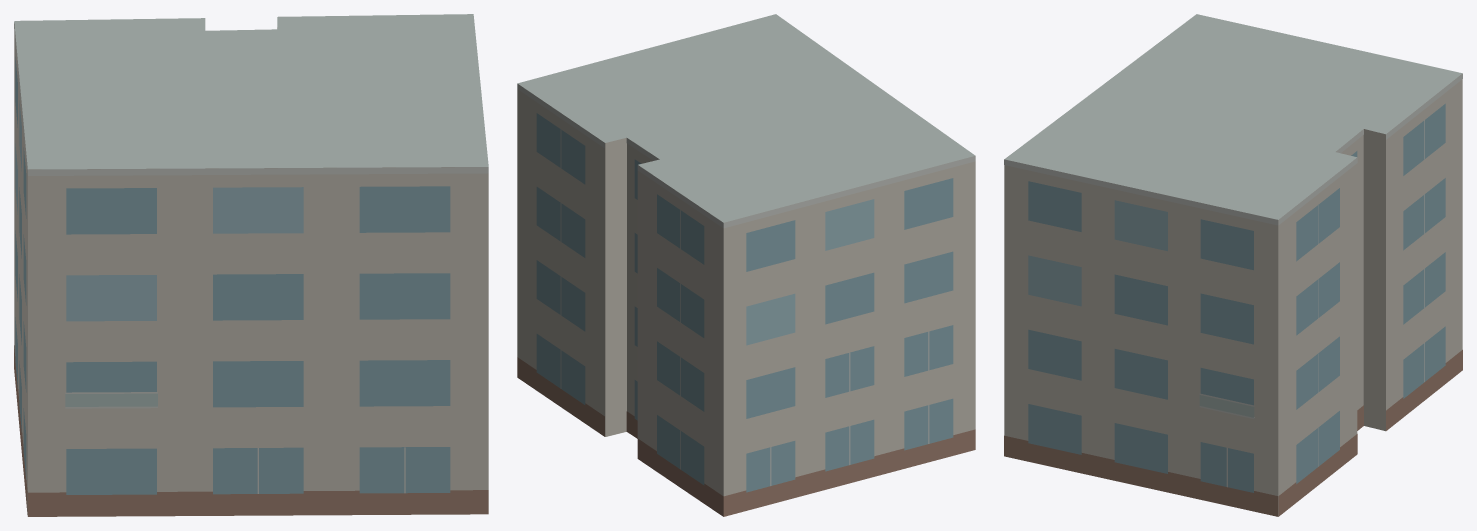
The model's file is survey-upis-32657755.glb.
The picture shows the model from 3 angles, left to right: view 1: azimuth 30°, elevation 25°; view 2: azimuth 150°, elevation 25°; view 3: azimuth 270°, elevation 25°; orthographic projection. The views are drawn at different scales.
Parts seen in each view (by area): view 1: survey-upis-32657755.tmp; view 2: survey-upis-32657755.tmp; view 3: survey-upis-32657755.tmp.
Boxes of the visible parts, left/top/right/bottom form: survey-upis-32657755.tmp: left=14, top=14, right=488, bottom=516; survey-upis-32657755.tmp: left=517, top=14, right=975, bottom=516; survey-upis-32657755.tmp: left=1004, top=14, right=1462, bottom=516.
Bounding box in the file's own units: 19.04 × 12.8 × 17.92.
